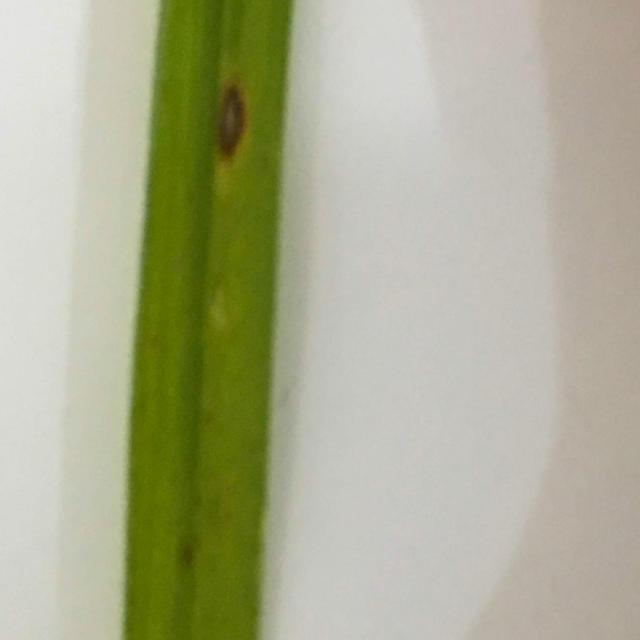Leaf_Blast: (197, 45, 260, 209)
